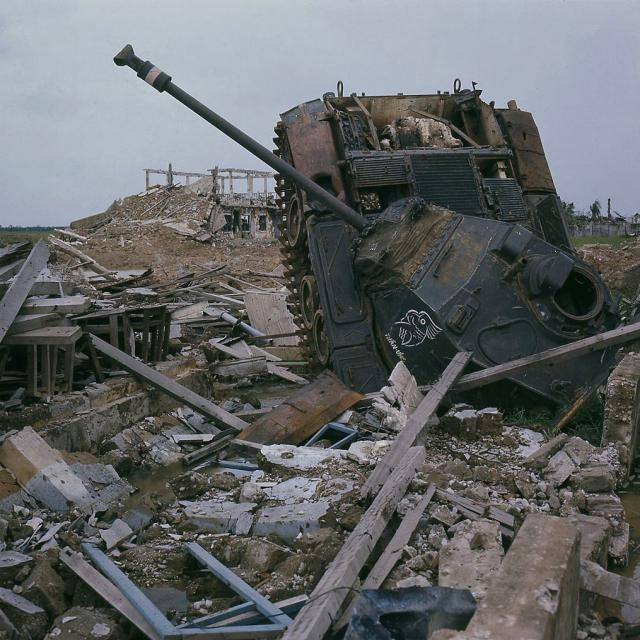tank: (110, 41, 632, 417)
